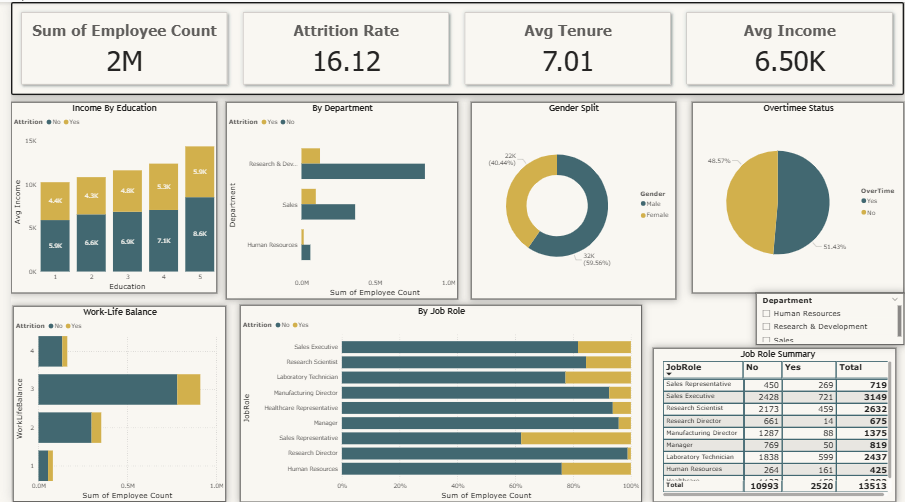

Layout of this report page (visuals, bound fields, positions):
{"tool":"powerbi","page":{"name":"Page 1","canvas":[1929,1080],"ordinal":0},"visuals":[{"type":"cardVisual","fields":{"Data":["Sum(HR.EmployeeNumber)","HR.Attrition Rate","HR.Avg Tenure","HR.Avg Income"]},"box":[0,0,1928.9,200.9],"z":0},{"type":"clusteredBarChart","title":" By Department","fields":{"Series":["HR.Attrition"],"Category":["HR.Department"],"Y":["Sum(HR.EmployeeNumber)"]},"box":[464.4,216,501.1,425.5],"z":1000},{"type":"hundredPercentStackedBarChart","title":" By Job Role","fields":{"Series":["HR.Attrition"],"Category":["HR.JobRole"],"Y":["Sum(HR.EmployeeNumber)"]},"box":[494.6,654.5,868.3,425.5],"z":2000},{"type":"columnChart","title":"Income By Education","fields":{"Series":["HR.Attrition"],"Y":["HR.Avg Income"],"Category":["HR.Education"]},"box":[0,216,445,412.6],"z":3000},{"type":"barChart","title":"Work-Life Balance ","fields":{"Series":["HR.Attrition"],"Category":["HR.WorkLifeBalance"],"Y":["Sum(HR.EmployeeNumber)"]},"box":[4.3,656.6,460.1,423.4],"z":4000},{"type":"pieChart","title":"Overtimee Status","fields":{"Category":["HR.OverTime"],"Y":["Sum(HR.EmployeeNumber)","select"]},"box":[1471,216,457.9,412.6],"z":5000},{"type":"pivotTable","title":"Job Role Summary","fields":{"Rows":["HR.JobRole"],"Columns":["HR.Attrition"],"Values":["Sum(HR.DistanceFromHome)"]},"box":[1386.7,747.4,524.9,332.6],"z":6000},{"type":"donutChart","title":"Gender Split","fields":{"Category":["HR.Gender"],"Y":["Sum(HR.Age)"]},"box":[993.6,216,442.8,425.5],"z":7000},{"type":"slicer","fields":{"Values":["HR.Department"]},"box":[1609.2,628.6,319.7,112.3],"z":8000}]}

Visuals, with their boxes in screenshot pixels (x1, y1, x2, y2), scaled from the page's 1929x1080 canvas onto the 905x502 screenshot:
cardVisual - Sum(HR.EmployeeNumber) x HR.Attrition Rate: x1=0 y1=0 x2=904 y2=93
" By Department" clusteredBarChart: x1=218 y1=100 x2=453 y2=298
" By Job Role" hundredPercentStackedBarChart: x1=232 y1=304 x2=639 y2=501
"Income By Education" columnChart: x1=0 y1=100 x2=209 y2=292
"Work-Life Balance " barChart: x1=2 y1=305 x2=218 y2=501
"Overtimee Status" pieChart: x1=690 y1=100 x2=904 y2=292
"Job Role Summary" pivotTable: x1=651 y1=347 x2=897 y2=501
"Gender Split" donutChart: x1=466 y1=100 x2=674 y2=298
slicer - HR.Department: x1=755 y1=292 x2=904 y2=344
